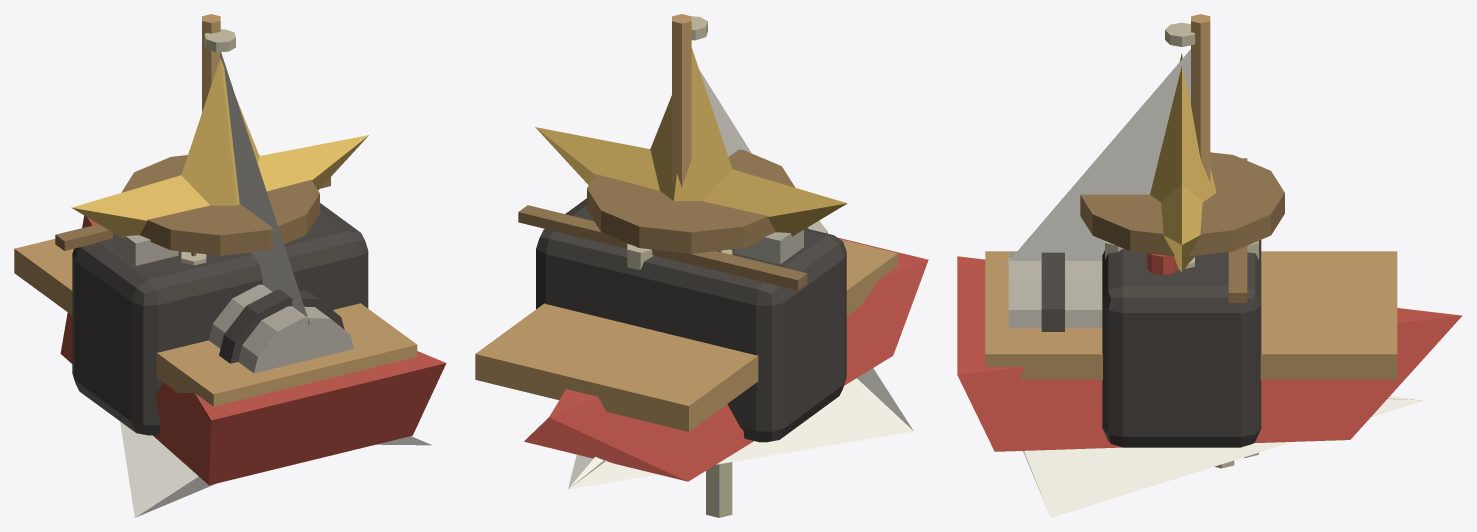
Rendered from collectibles.glb.
3 views of the same model, side by side, from view 1: azimuth 30°, elevation 25°; view 2: azimuth 150°, elevation 25°; view 3: azimuth 270°, elevation 25° (orthographic). The views are drawn at different scales.
Visible parts, largest first — view 1: ToyBoat, OldCamera, StarOrnament, WindChime, PaperPlane; view 2: ToyBoat, OldCamera, StarOrnament, WindChime, PaperPlane; view 3: ToyBoat, OldCamera, WindChime, PaperPlane, StarOrnament.
Boxes of the visible parts, x1,y1,x2,y2 form: ToyBoat: (14,14,446,485); OldCamera: (55,177,368,435); StarOrnament: (71,29,368,239); WindChime: (121,155,319,265); PaperPlane: (120,421,431,517); ToyBoat: (475,14,928,481); OldCamera: (518,198,846,442); StarOrnament: (535,16,847,236); WindChime: (587,149,795,517); PaperPlane: (568,368,913,489); ToyBoat: (957,14,1461,451); OldCamera: (1008,158,1261,447); WindChime: (1080,152,1284,468); PaperPlane: (1023,395,1424,517); StarOrnament: (1150,22,1216,271).
Bounding box in the file's own units: 0.3804 × 0.55 × 0.54.
